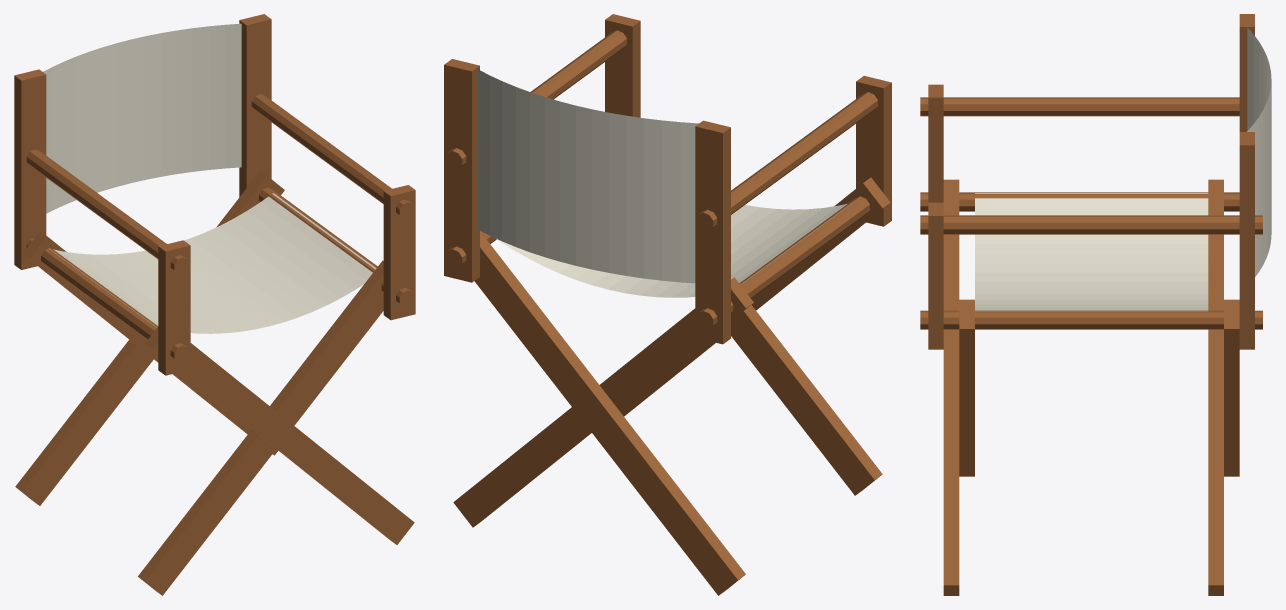
The model's file is Chair.glb.
3 views of the same model, side by side, from view 1: azimuth 30°, elevation 25°; view 2: azimuth 150°, elevation 25°; view 3: azimuth 270°, elevation 25° (orthographic). The views are drawn at different scales.
Parts seen in each view (by area): view 1: Node; view 2: Node; view 3: Node.
Boxes of the visible parts, left/top/right/bottom form: Node: left=14, top=14, right=415, bottom=595; Node: left=444, top=14, right=891, bottom=595; Node: left=920, top=14, right=1271, bottom=595.
Size of the model in its own units: 21.04 by 32.41 by 22.56.
